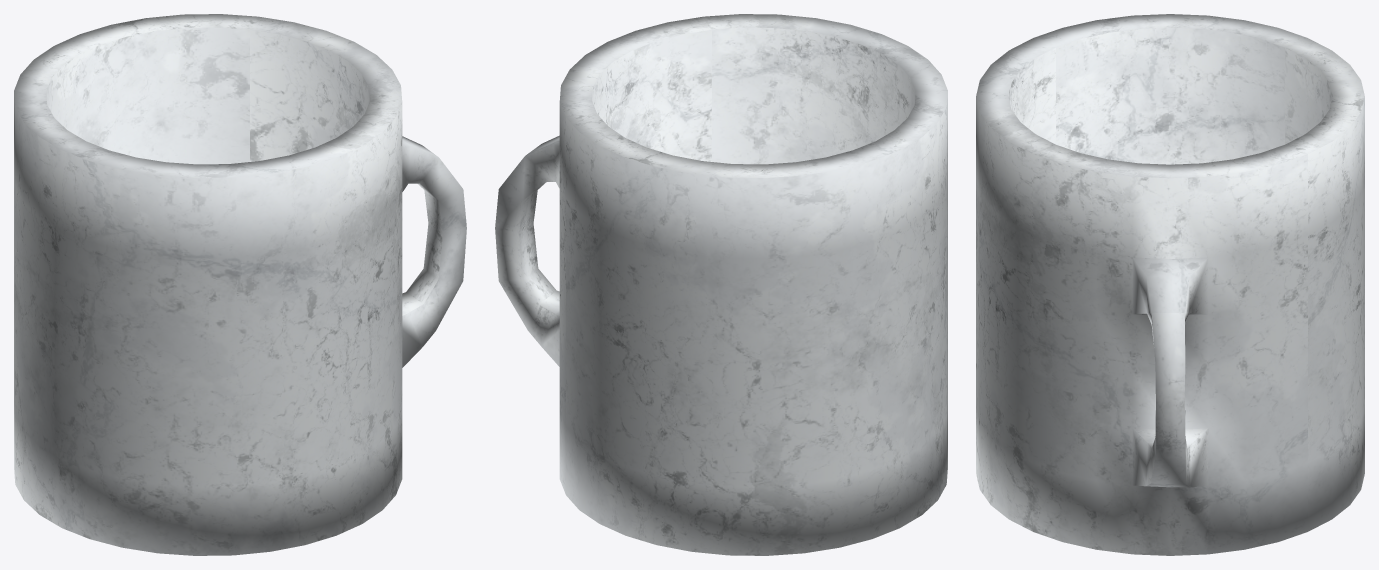
File: mug.dae
3 views of the same model, side by side, from view 1: azimuth 30°, elevation 25°; view 2: azimuth 150°, elevation 25°; view 3: azimuth 270°, elevation 25° (orthographic).
Parts seen in each view (by area): view 1: mug_tex; view 2: mug_tex; view 3: mug_tex.
Boxes of the visible parts, x1,y1,x2,y2 form: mug_tex: (14, 14, 466, 555); mug_tex: (495, 14, 947, 555); mug_tex: (976, 14, 1364, 555).
Bounding box in the file's own units: 0.118 × 0.0946 × 0.1014.
1 material, 1 textured.
